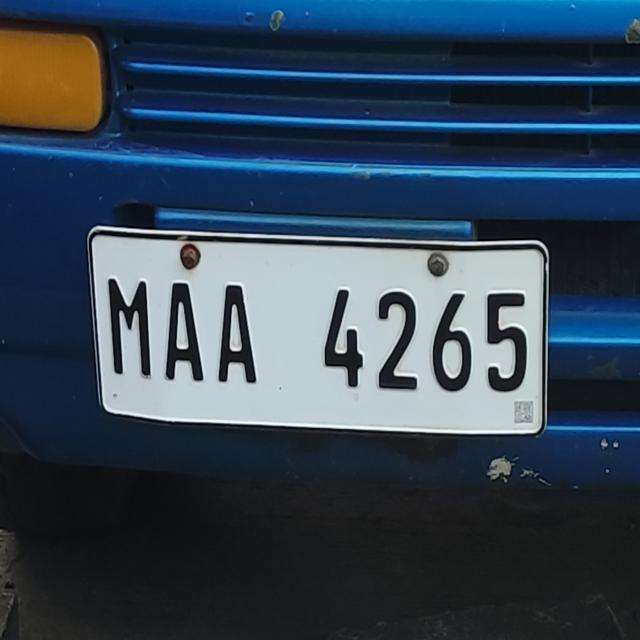LicensePlate: (85, 223, 542, 444)
